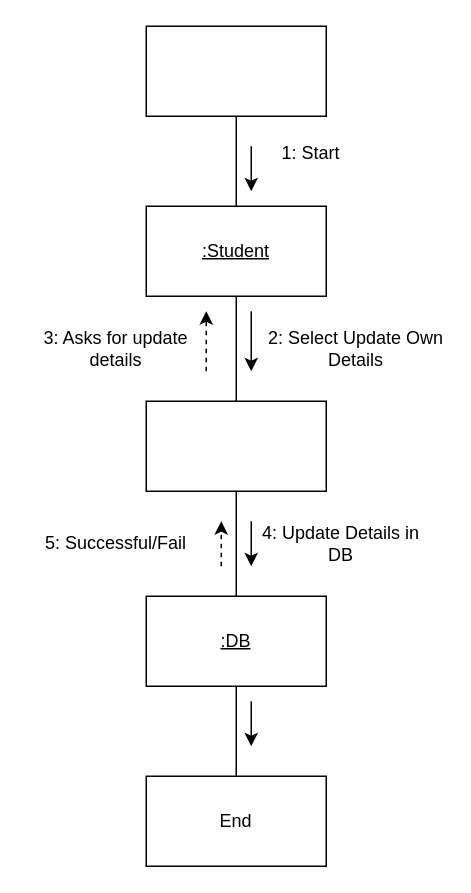
Image size: 471x893. Some labels were removed from this diagram. The shapes that lost their labels are listed below. From the top down, each one's centre as x and y in pixels, then its label:
At point (235, 70): "Initialization".
At point (235, 445): ":System".
